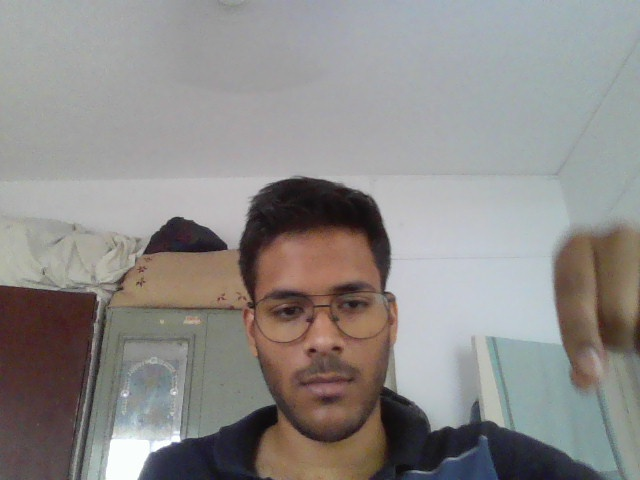yes: (541, 223, 640, 421)
